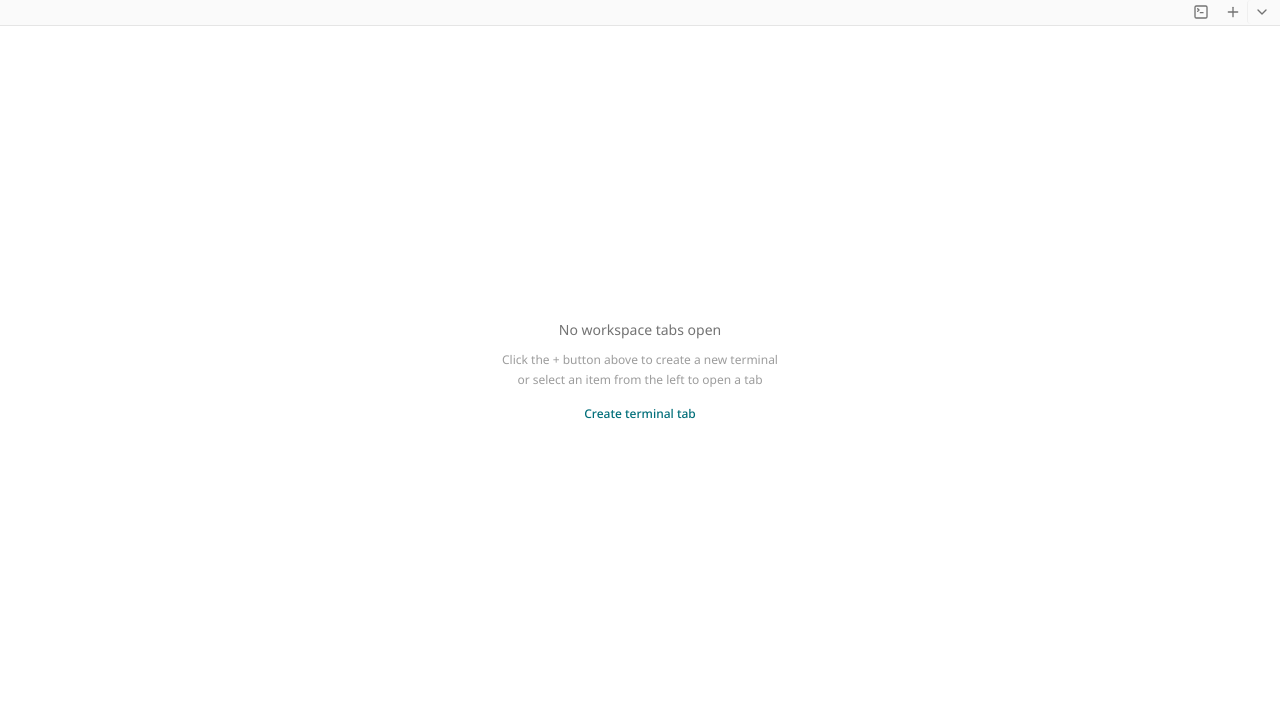
Scenario: WorkspacePanel › surfaces terminal session errors in the UI
Step 1. Click the 2nd button named "new terminal" → (1233, 12), box left=1219, top=0, right=1247, bottom=24
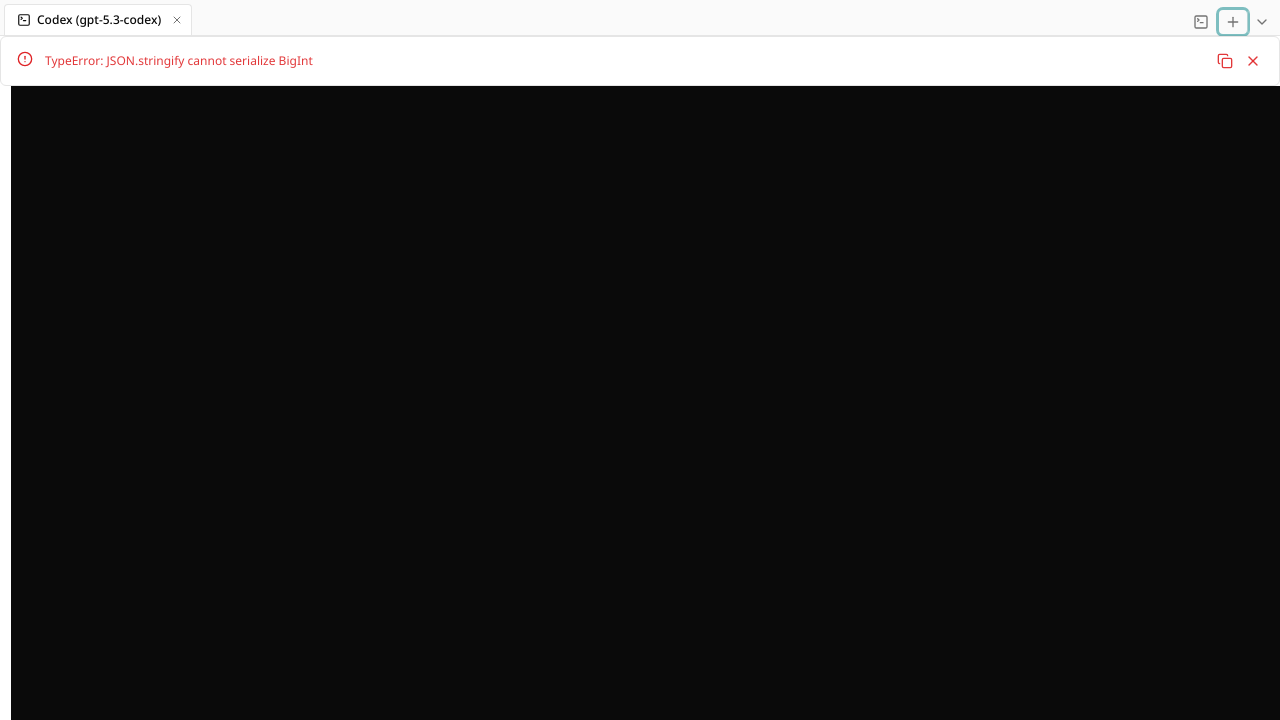
Result: the message shows "JSON.stringify cannot serialize BigInt" at left=45, top=52, right=313, bottom=69
